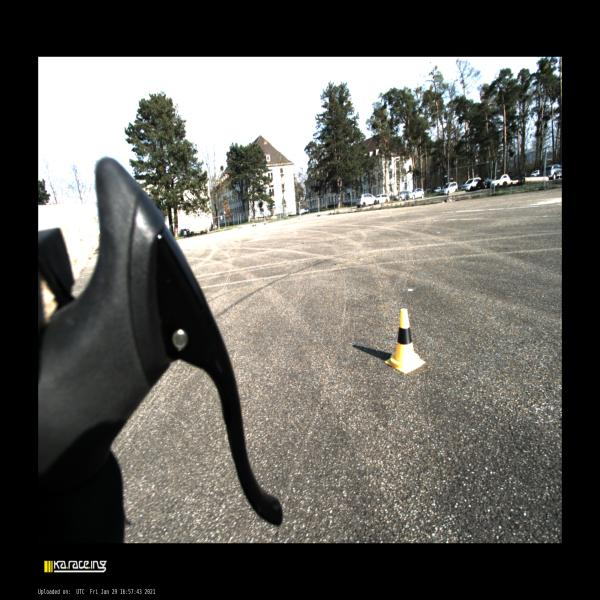yellow_cone: (386, 309, 425, 373)
